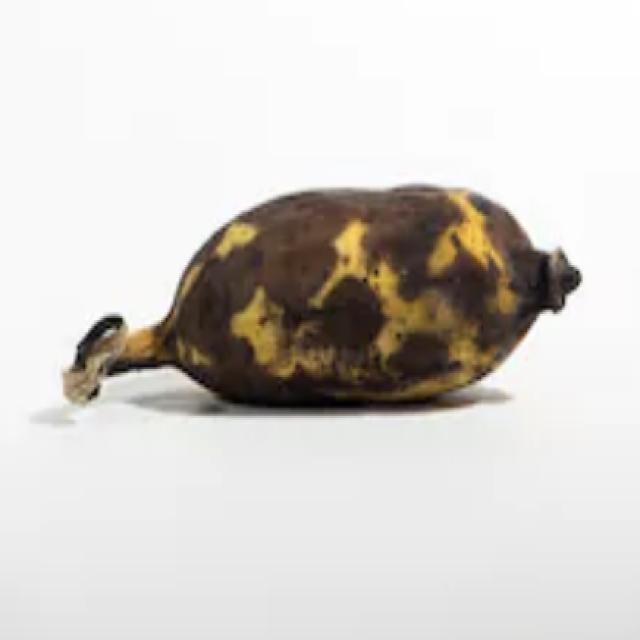rotten-banana: (60, 179, 581, 410)
